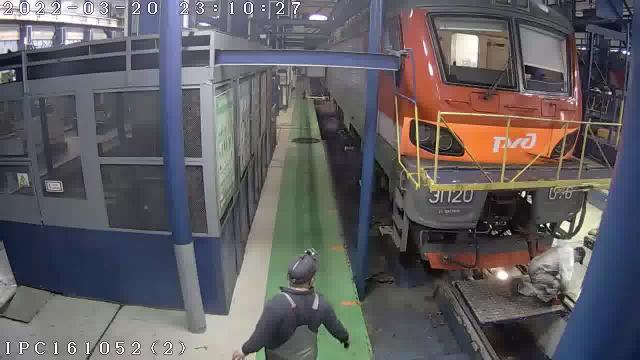person: (233, 249, 349, 359), (513, 246, 585, 303)
train: (376, 0, 586, 269)
